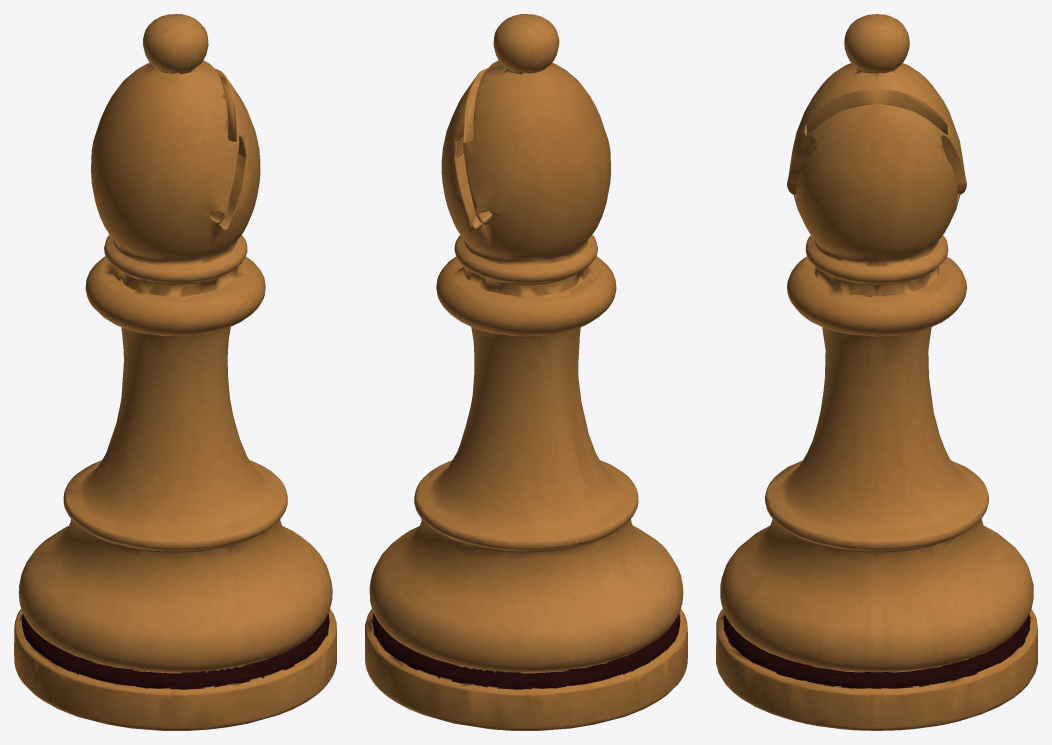
The model's file is bishop_light.glb.
The picture shows the model from 3 angles, left to right: view 1: azimuth 30°, elevation 25°; view 2: azimuth 150°, elevation 25°; view 3: azimuth 270°, elevation 25°; orthographic projection.
Visible parts, largest first — view 1: geometry_0; view 2: geometry_0; view 3: geometry_0.
Part boxes in pixels (<box>): geometry_0: <box>14,14,336,730</box>; geometry_0: <box>365,14,687,730</box>; geometry_0: <box>716,14,1037,730</box>.
Size of the model in its own units: 0.4969 by 1.1 by 0.496.
Materials: 1 (1 with a texture image).
